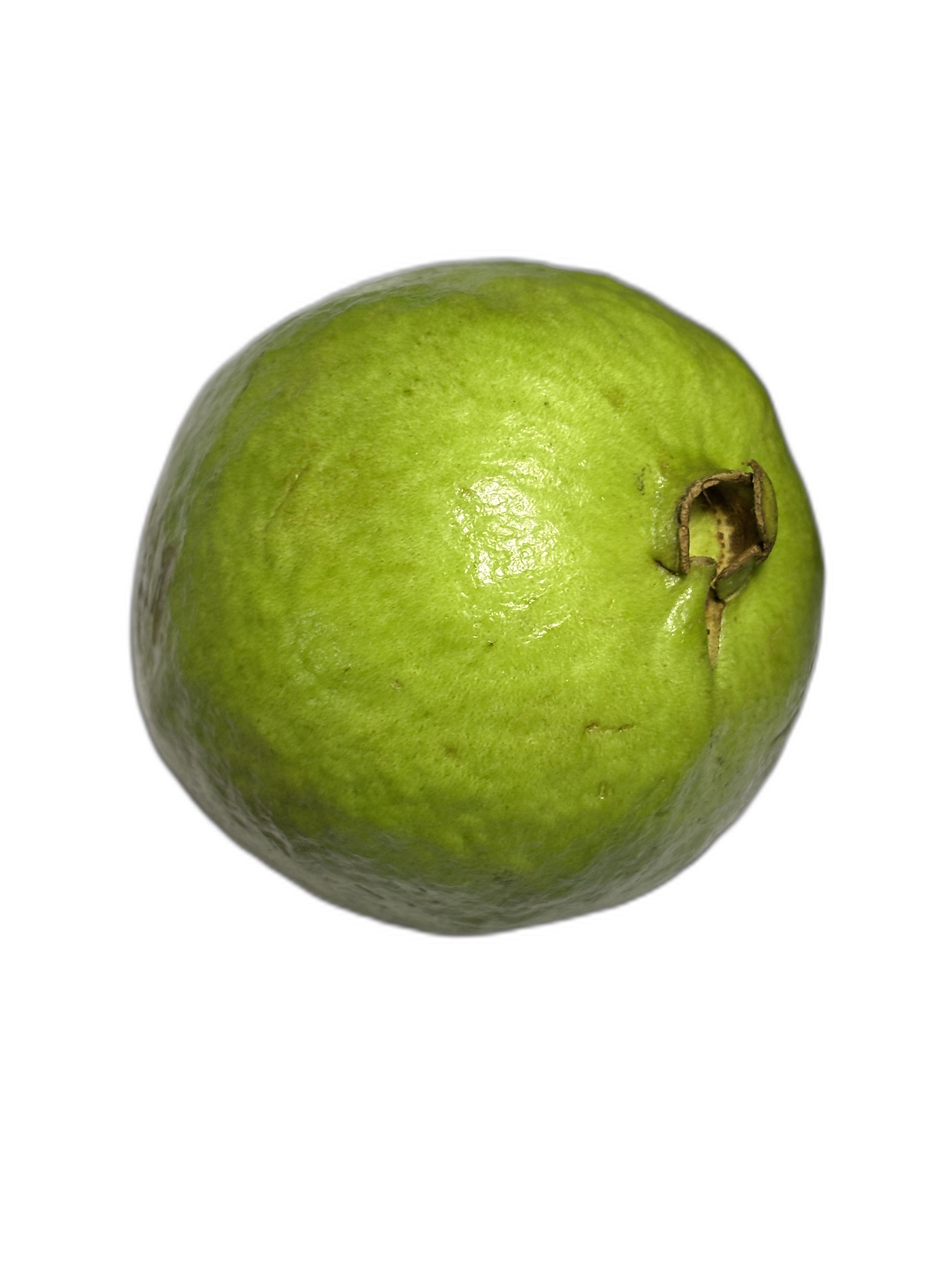guava: (179, 116, 899, 1128)
